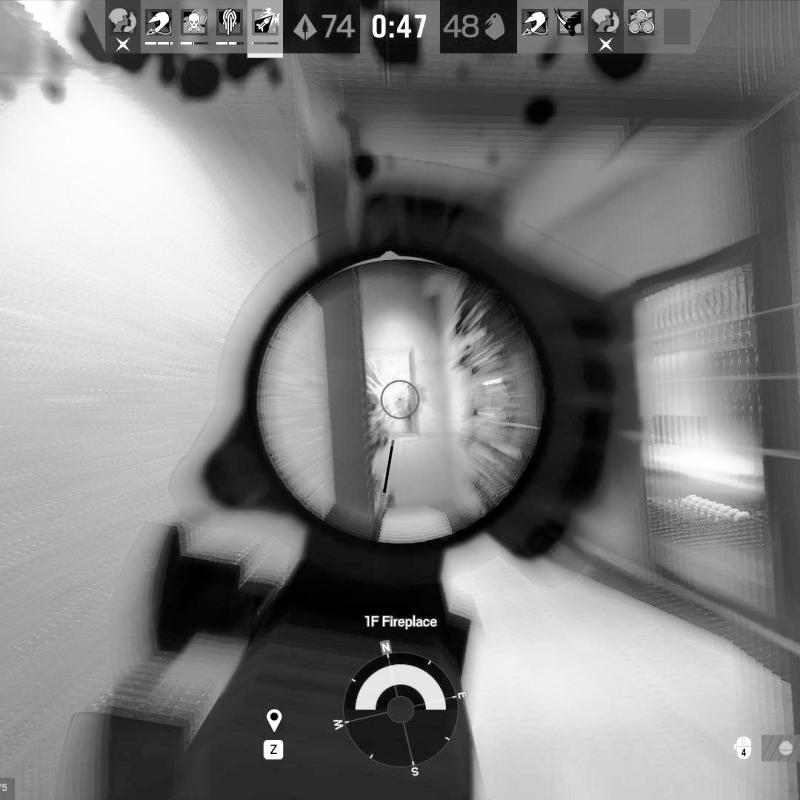Character: (366, 389, 392, 527)
Head: (368, 390, 380, 411)
